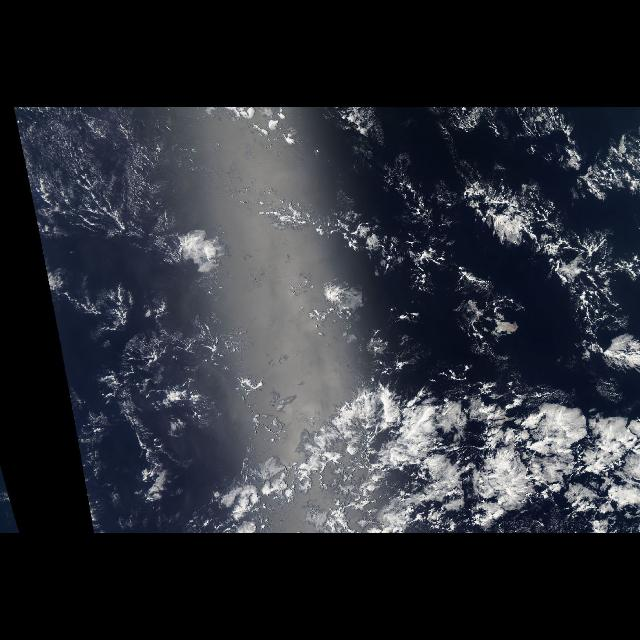Fish: (410, 149, 630, 393)
